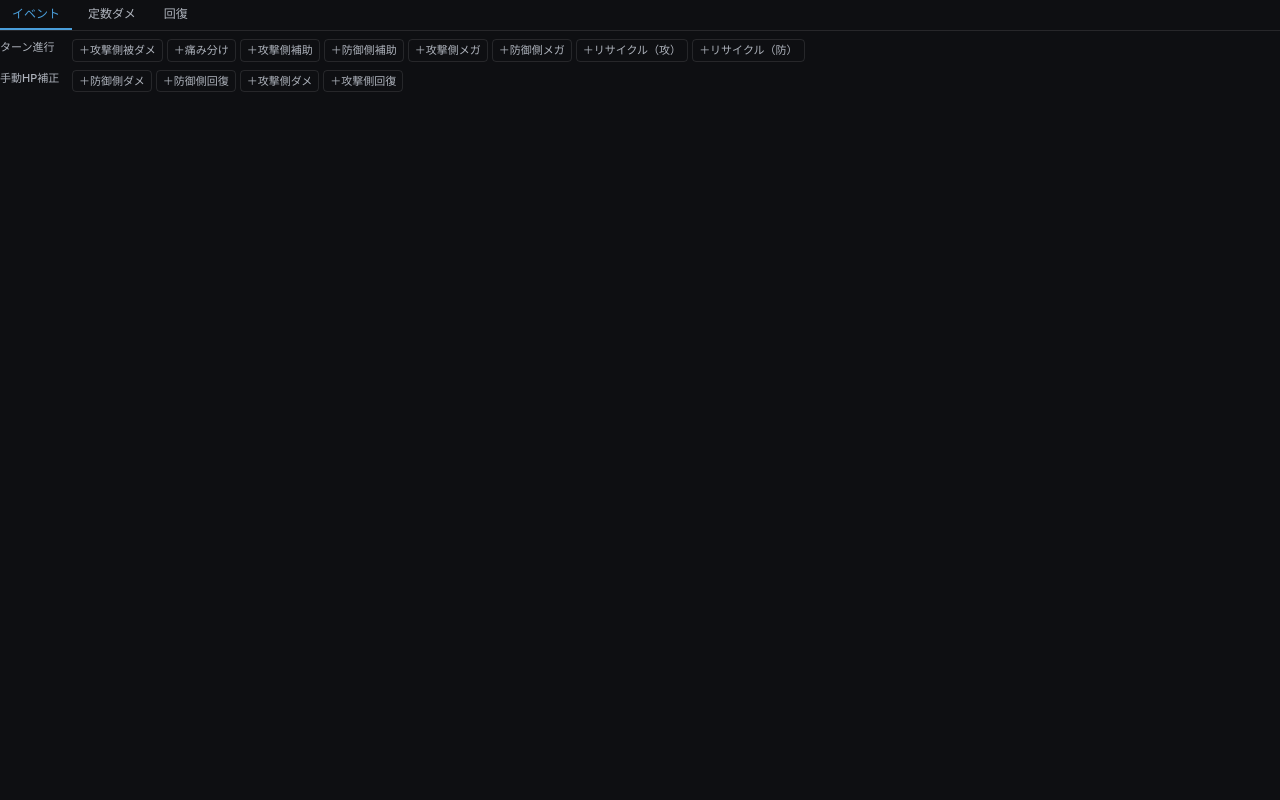
Scenario: ProgressionTabs › 定数ダメタブをクリックすると常時効果カタログ（割合 / もうどく / 固定）に切り替わる
Click the tab "定数ダメ" at {"x": 112, "y": 15}, box x1=76 y1=0 x2=148 y2=30
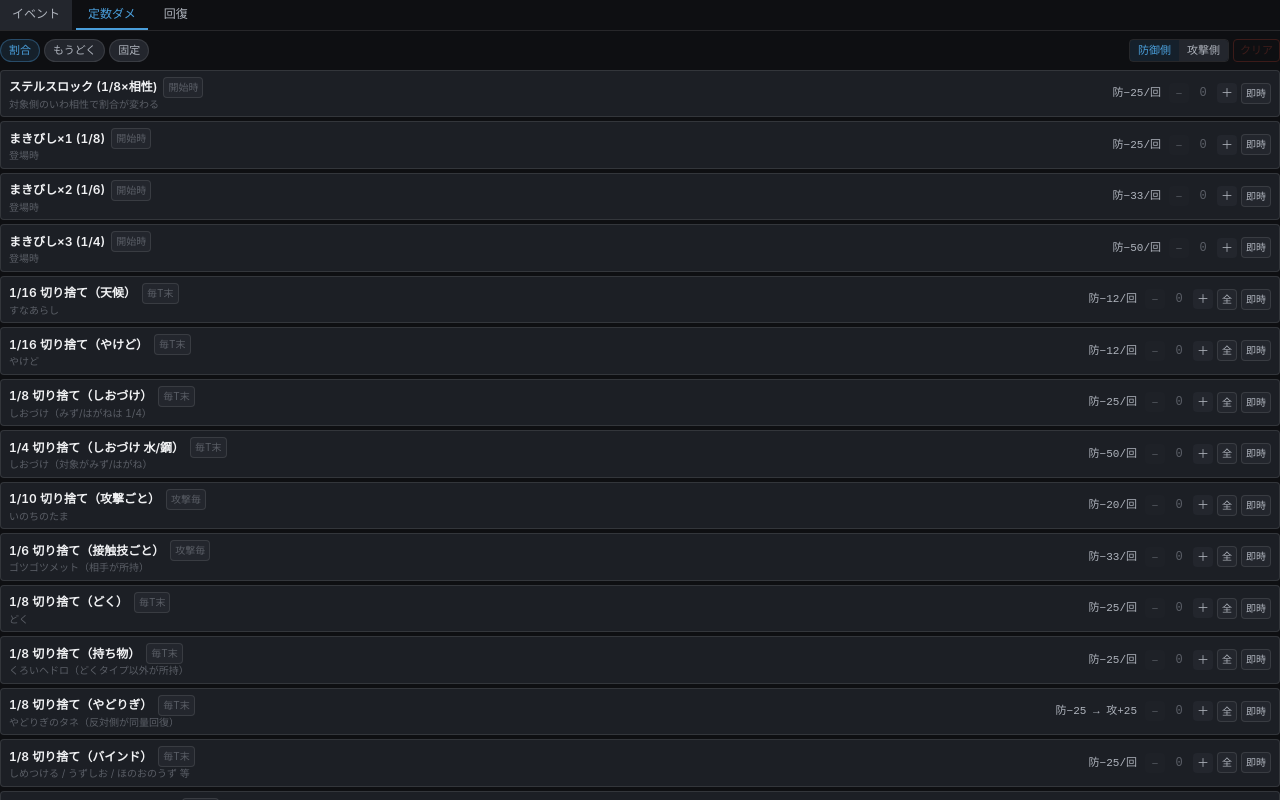
Check: the button "もうどく" is shown, box x1=44 y1=39 x2=105 y2=62
Check: the element with test id "passive-row-sandstorm" is shown, box x1=0 y1=276 x2=1279 y2=323
Check: the button "＋攻撃側被ダメ" is gone
